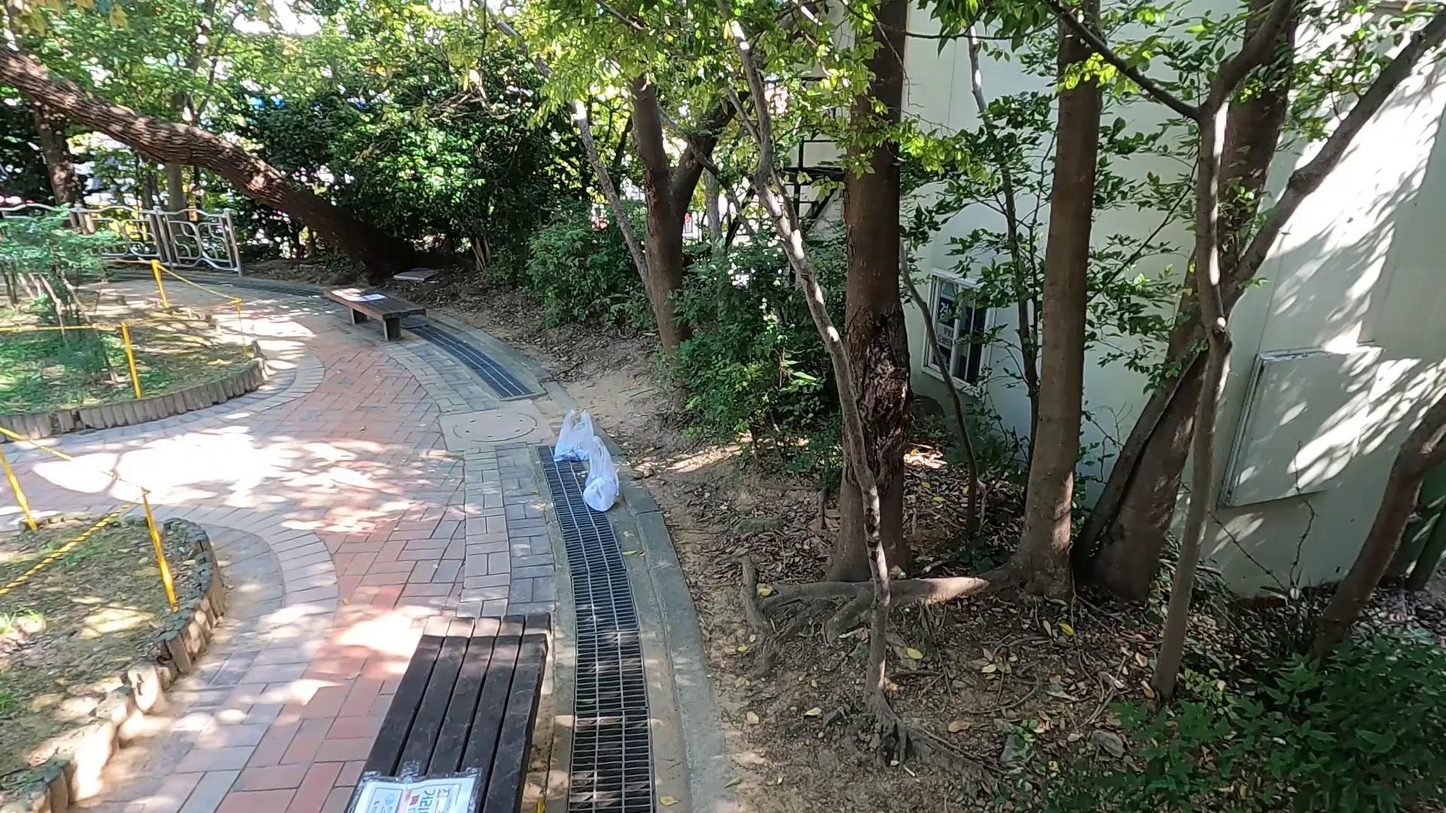trash: (582, 437, 619, 511), (554, 408, 596, 462)
